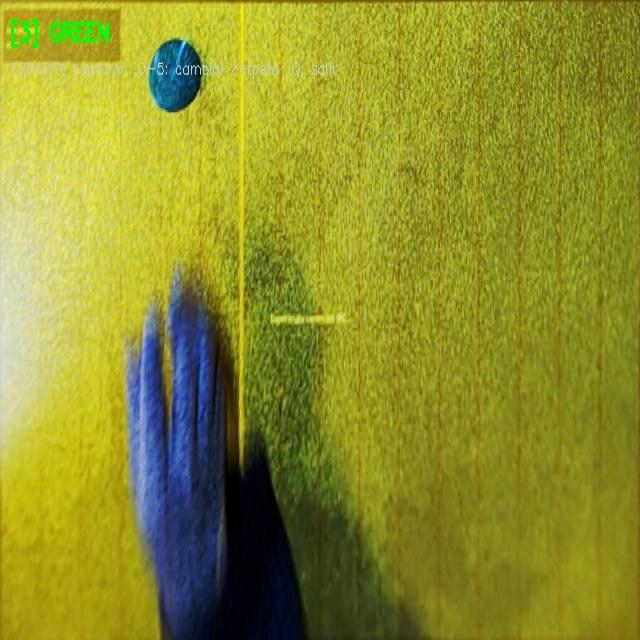green: (151, 44, 201, 110)
